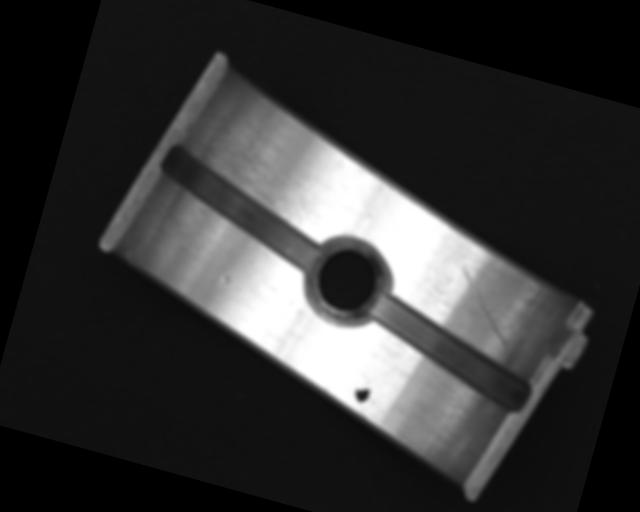blot: (352, 379, 373, 405)
bruise: (219, 273, 233, 286)
gap: (147, 144, 336, 273), (356, 292, 545, 415)
hole: (298, 232, 394, 334)
nick: (443, 262, 528, 349)
scratch: (180, 103, 345, 234)
